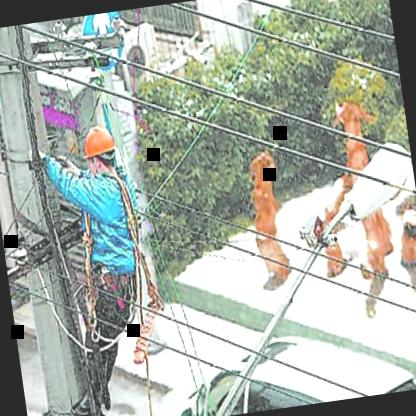helmet: (77, 119, 119, 177)
